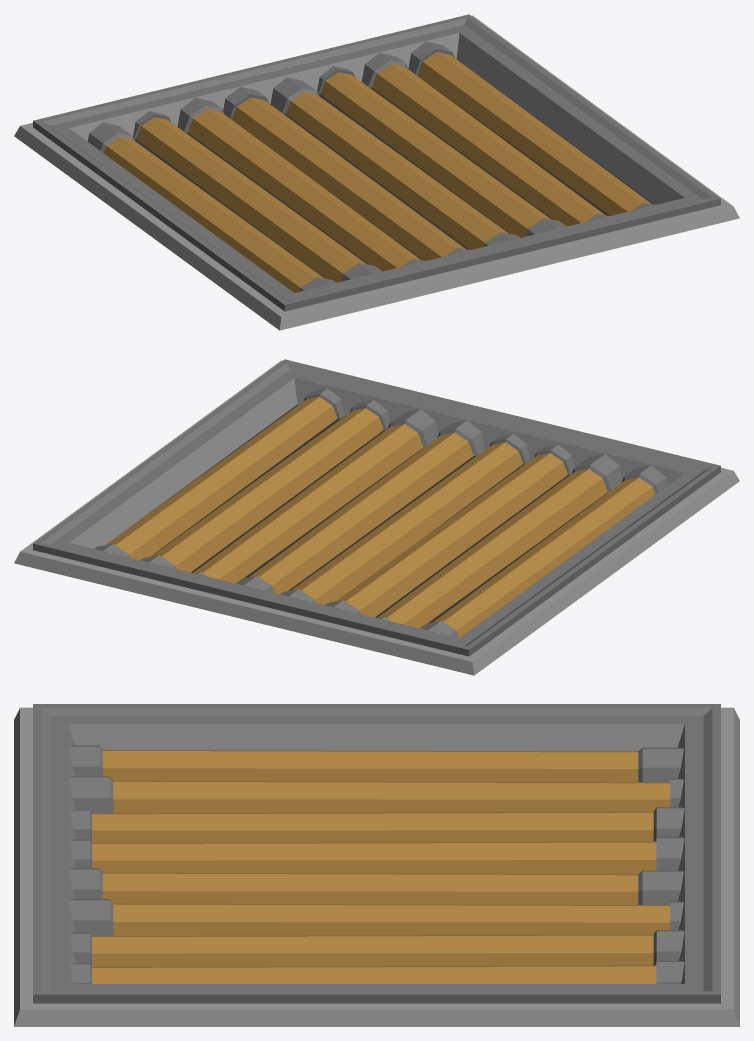
The model's file is RoofTile_Pipes1.glb.
3 views of the same model, one above another, from view 1: azimuth 30°, elevation 25°; view 2: azimuth 150°, elevation 25°; view 3: azimuth 270°, elevation 25° (orthographic). The views are drawn at different scales.
Visible parts, largest first — view 1: RoofTile_Pipes1; view 2: RoofTile_Pipes1; view 3: RoofTile_Pipes1.
Boxes of the visible parts, box(x1,y1,x2,y2) form: RoofTile_Pipes1: box(14, 14, 739, 330); RoofTile_Pipes1: box(14, 359, 739, 675); RoofTile_Pipes1: box(14, 704, 739, 1026).
Bounding box in the file's own units: 2 × 0.1133 × 2.
